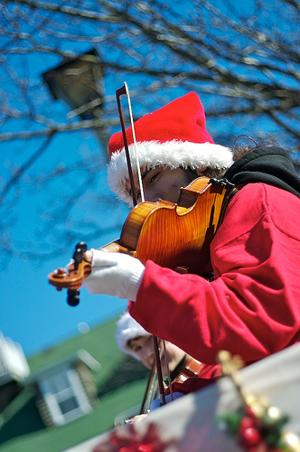person: (50, 89, 300, 372)
